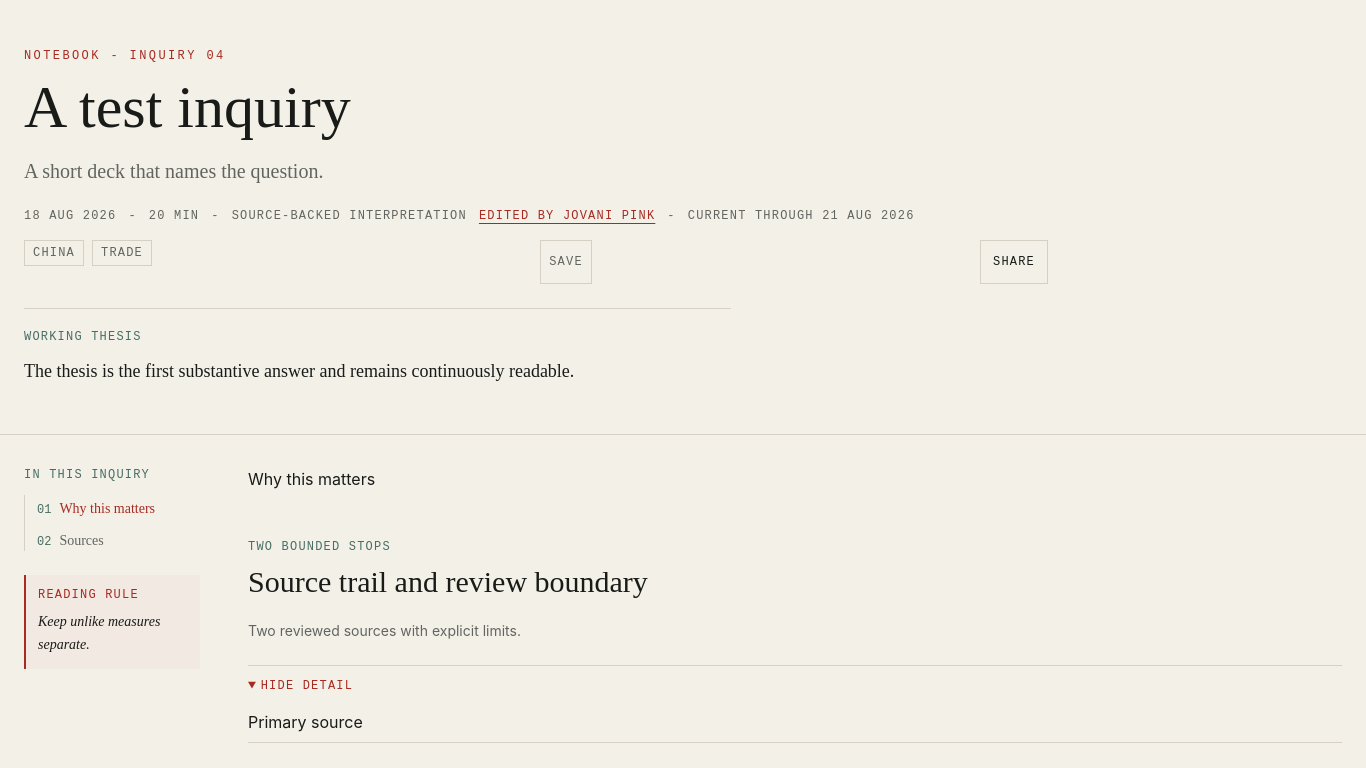
Test: Notebook reader shell › uses one Share disclosure while preserving all four actions
This screenshot has width=1366, height=768.
Click the button "Share" at [1014, 262], box [980,240,1048,284]
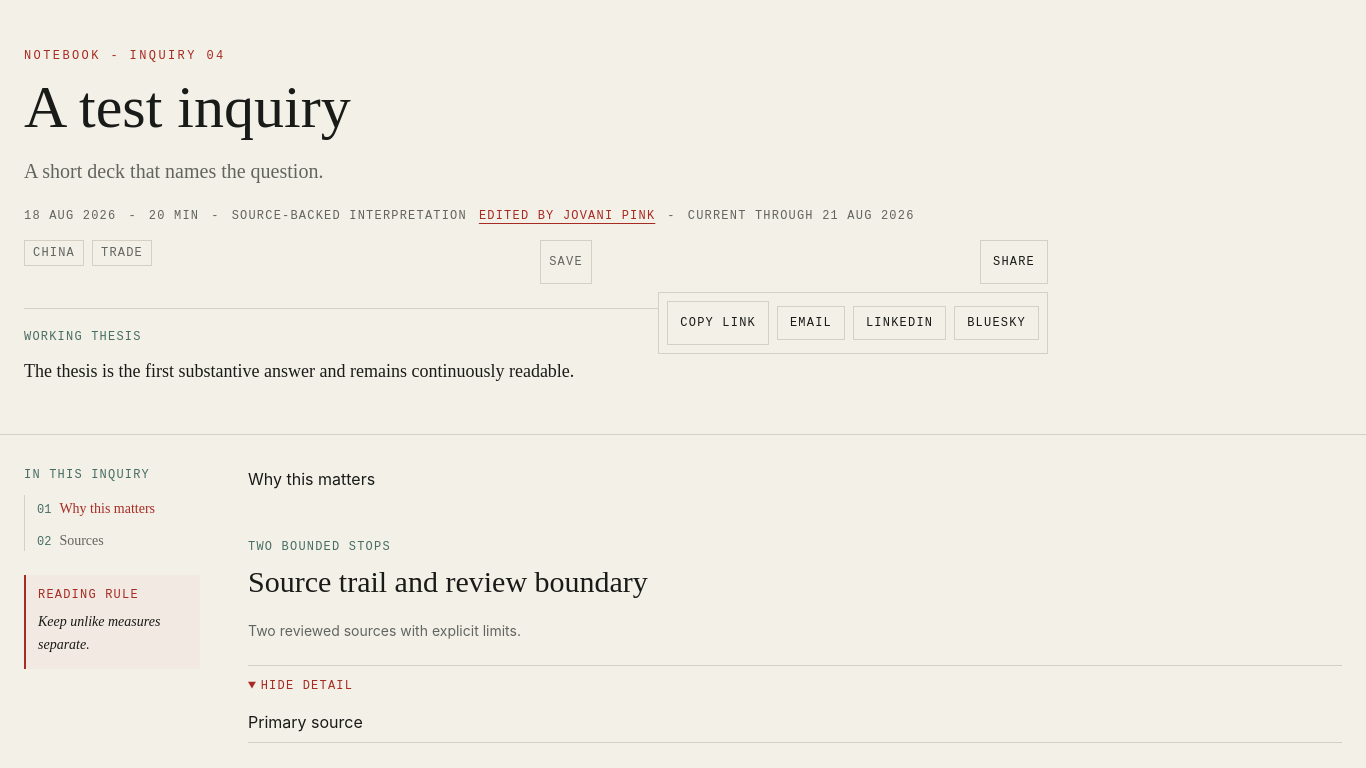
Expected: the button "Copy link" is shown, [667,300,769,344]
Expected: the link "email" is shown, [777,306,845,340]
Expected: the link "linkedin" is shown, [853,306,946,340]
